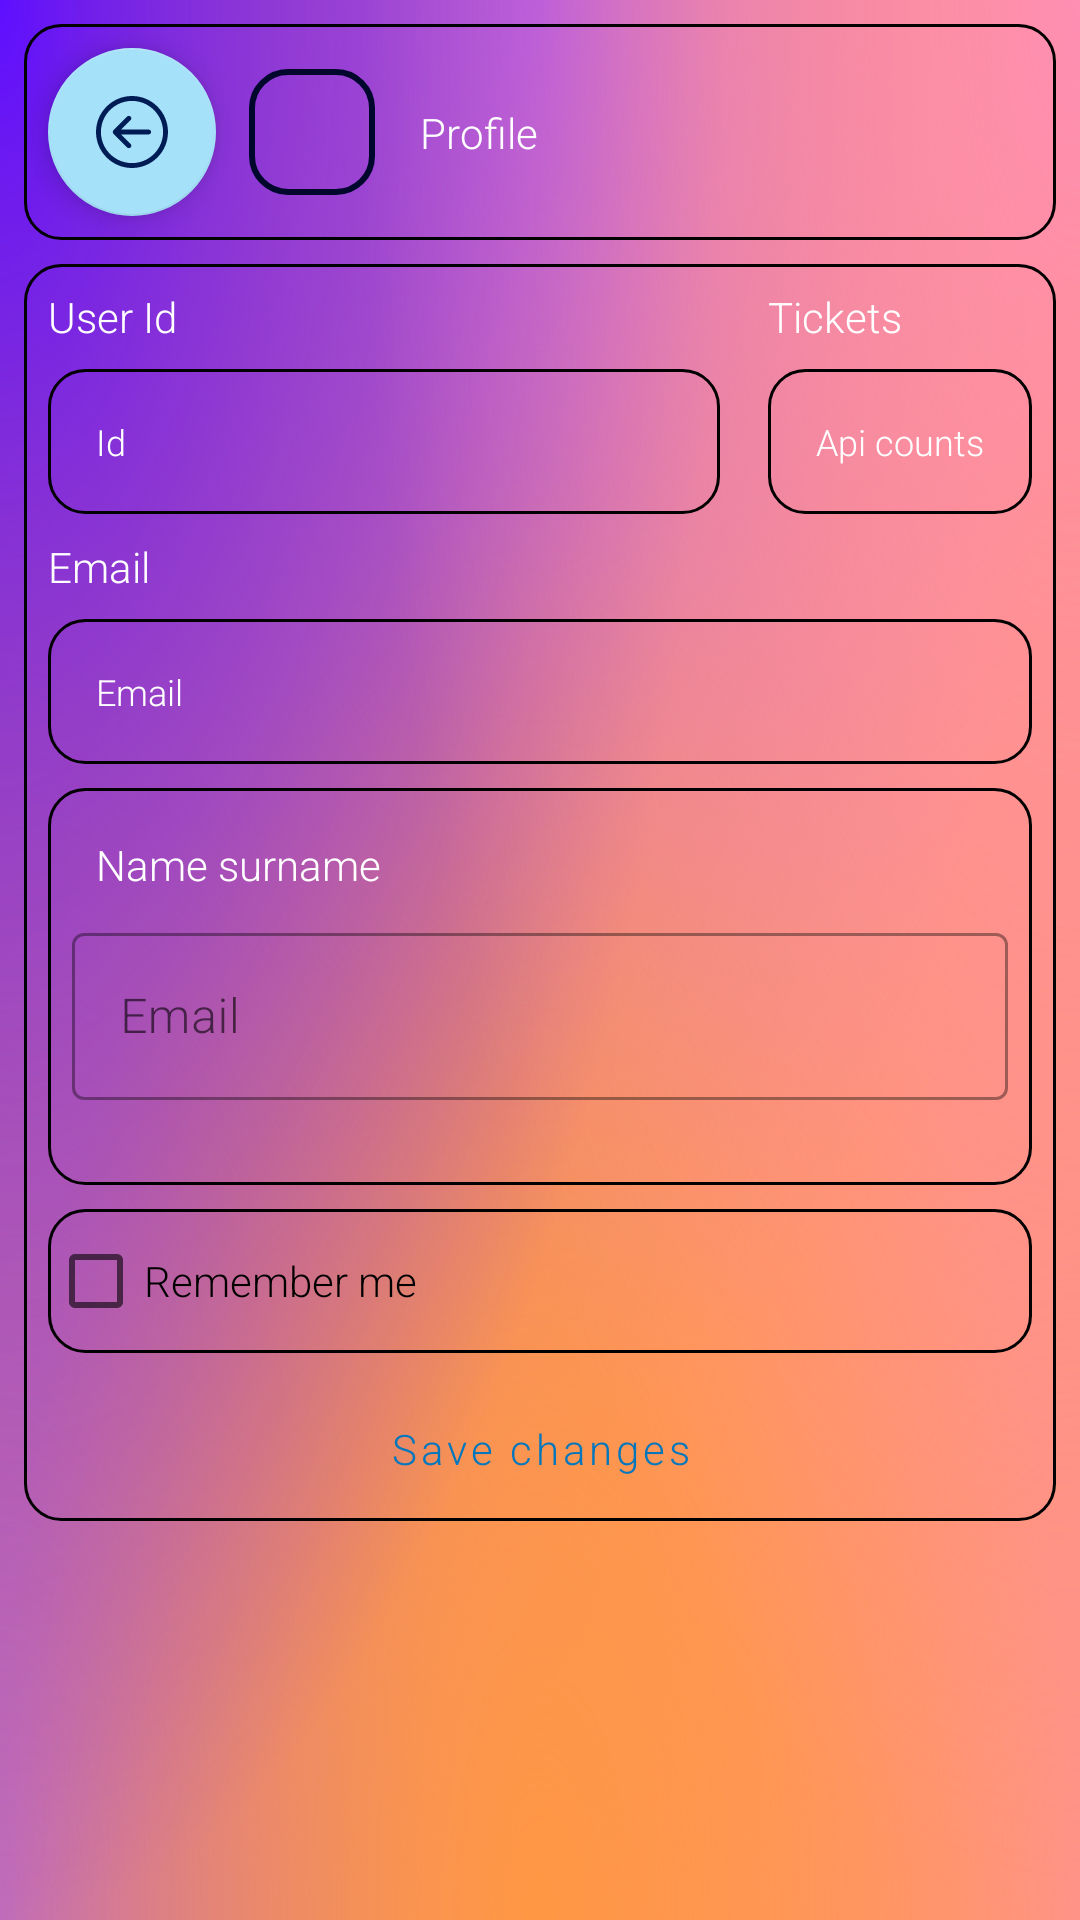

Icon bounding boxes for this 1080 x 1920 phone screenshot, format (x1, y1, x2, y2):
back: (48, 48, 216, 216)
